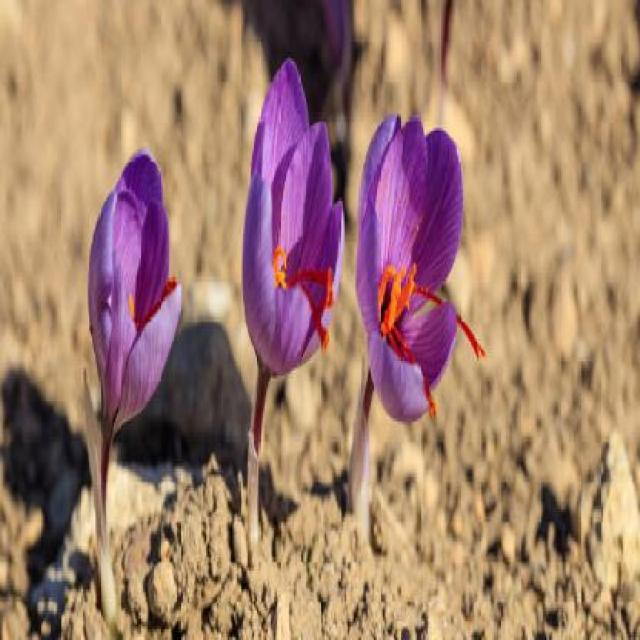Flower: (229, 35, 348, 403), (356, 101, 476, 428), (72, 144, 183, 456)
stigma: (413, 288, 490, 362), (392, 325, 440, 419), (135, 272, 181, 330), (308, 312, 332, 352)
